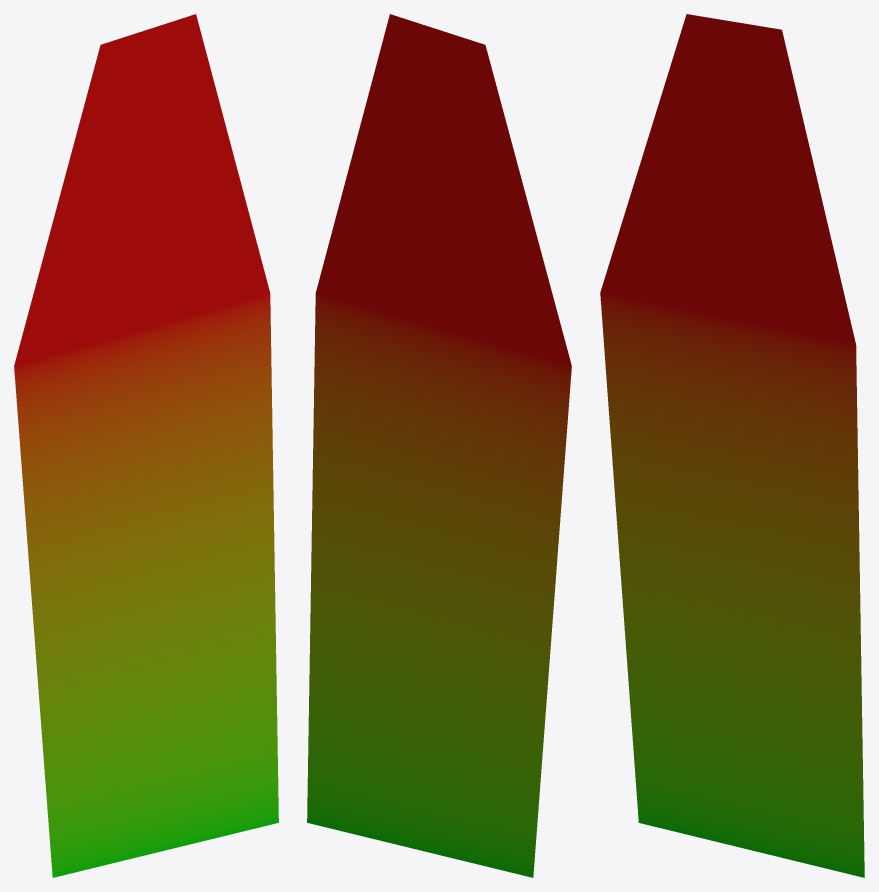
Rendered from Crownbeard_LOD4_Var6_tefoajkr.fbx.
The picture shows the model from 3 angles, left to right: view 1: azimuth 30°, elevation 25°; view 2: azimuth 150°, elevation 25°; view 3: azimuth 330°, elevation 25°; orthographic projection.
Parts seen in each view (by area): view 1: _d216_Var6_LOD4; view 2: _d216_Var6_LOD4; view 3: _d216_Var6_LOD4.
Boxes of the visible parts, left/top/right/bottom form: _d216_Var6_LOD4: left=14, top=14, right=278, bottom=877; _d216_Var6_LOD4: left=307, top=14, right=571, bottom=877; _d216_Var6_LOD4: left=600, top=14, right=864, bottom=877.
Size of the model in its own units: 31.37 by 93.83 by 1.19e-06.
